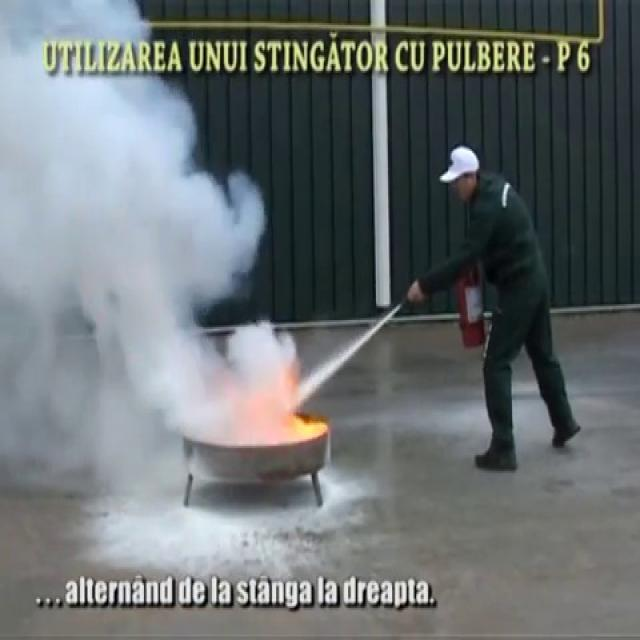Fire: (246, 384, 333, 452)
Smoke: (0, 0, 271, 453)
